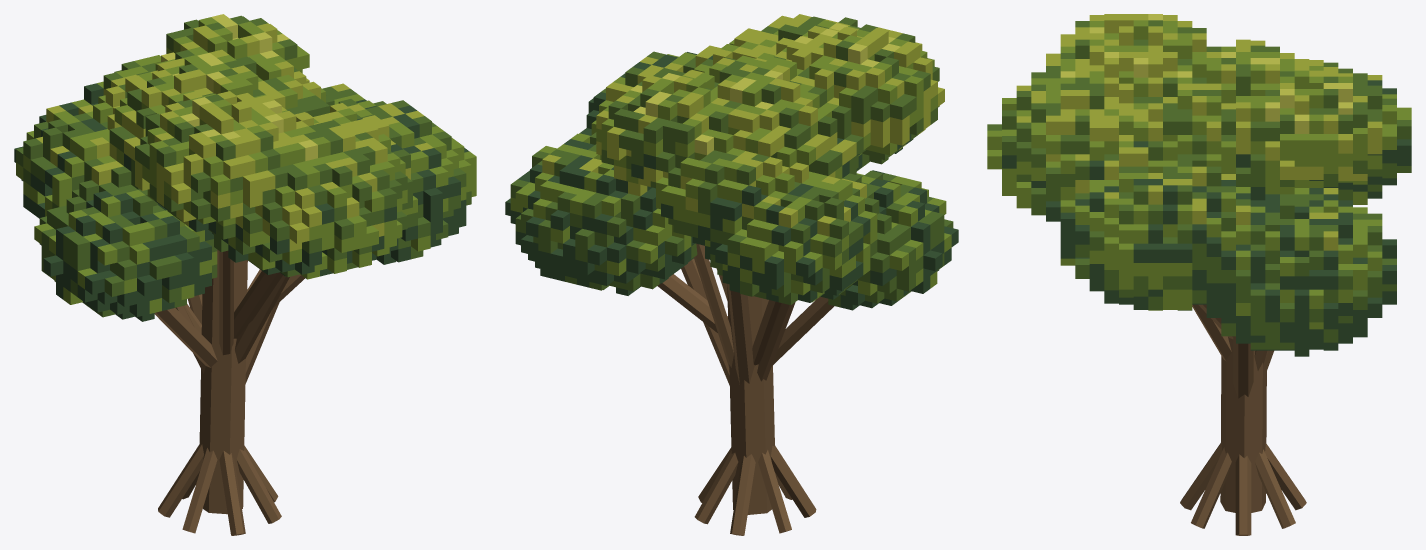
Rendered from tree_atrium.glb.
3 views of the same model, side by side, from view 1: azimuth 30°, elevation 25°; view 2: azimuth 150°, elevation 25°; view 3: azimuth 270°, elevation 25° (orthographic). The views are drawn at different scales.
Visible parts, largest first — view 1: tree_atrium__leaf, tree_atrium__leaf_mid, tree_atrium__leaf_light, tree_atrium__bark, tree_atrium__leaf_dark, tree_atrium__leaf_tip; view 2: tree_atrium__leaf, tree_atrium__leaf_mid, tree_atrium__leaf_dark, tree_atrium__leaf_light, tree_atrium__bark, tree_atrium__leaf_tip; view 3: tree_atrium__leaf_mid, tree_atrium__leaf, tree_atrium__leaf_dark, tree_atrium__leaf_light, tree_atrium__bark, tree_atrium__leaf_tip.
Boxes of the visible parts, x1=… form: tree_atrium__leaf: x1=16, y1=15, x2=471, y2=317; tree_atrium__leaf_mid: x1=16, y1=17, x2=476, y2=313; tree_atrium__leaf_light: x1=36, y1=23, x2=433, y2=251; tree_atrium__bark: x1=154, y1=249, x2=305, y2=535; tree_atrium__leaf_dark: x1=14, y1=83, x2=469, y2=321; tree_atrium__leaf_tip: x1=161, y1=14, x2=317, y2=160; tree_atrium__leaf: x1=510, y1=16, x2=953, y2=307; tree_atrium__leaf_mid: x1=510, y1=20, x2=951, y2=302; tree_atrium__leaf_dark: x1=505, y1=52, x2=958, y2=310; tree_atrium__leaf_light: x1=542, y1=14, x2=944, y2=236; tree_atrium__bark: x1=657, y1=243, x2=834, y2=535; tree_atrium__leaf_tip: x1=630, y1=23, x2=900, y2=155; tree_atrium__leaf_mid: x1=987, y1=20, x2=1411, y2=329; tree_atrium__leaf: x1=987, y1=20, x2=1411, y2=349; tree_atrium__leaf_dark: x1=1002, y1=80, x2=1411, y2=356; tree_atrium__leaf_light: x1=1016, y1=14, x2=1382, y2=250; tree_atrium__bark: x1=1180, y1=304, x2=1306, y2=535; tree_atrium__leaf_tip: x1=1060, y1=14, x2=1352, y2=133.
Size of the model in its own units: 2.32 by 2.64 by 2.18.
